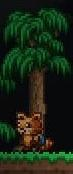tree: (1, 1, 73, 174)
